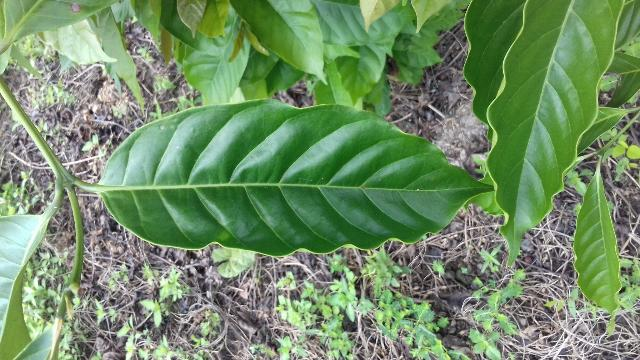healthy: (76, 101, 491, 259)
